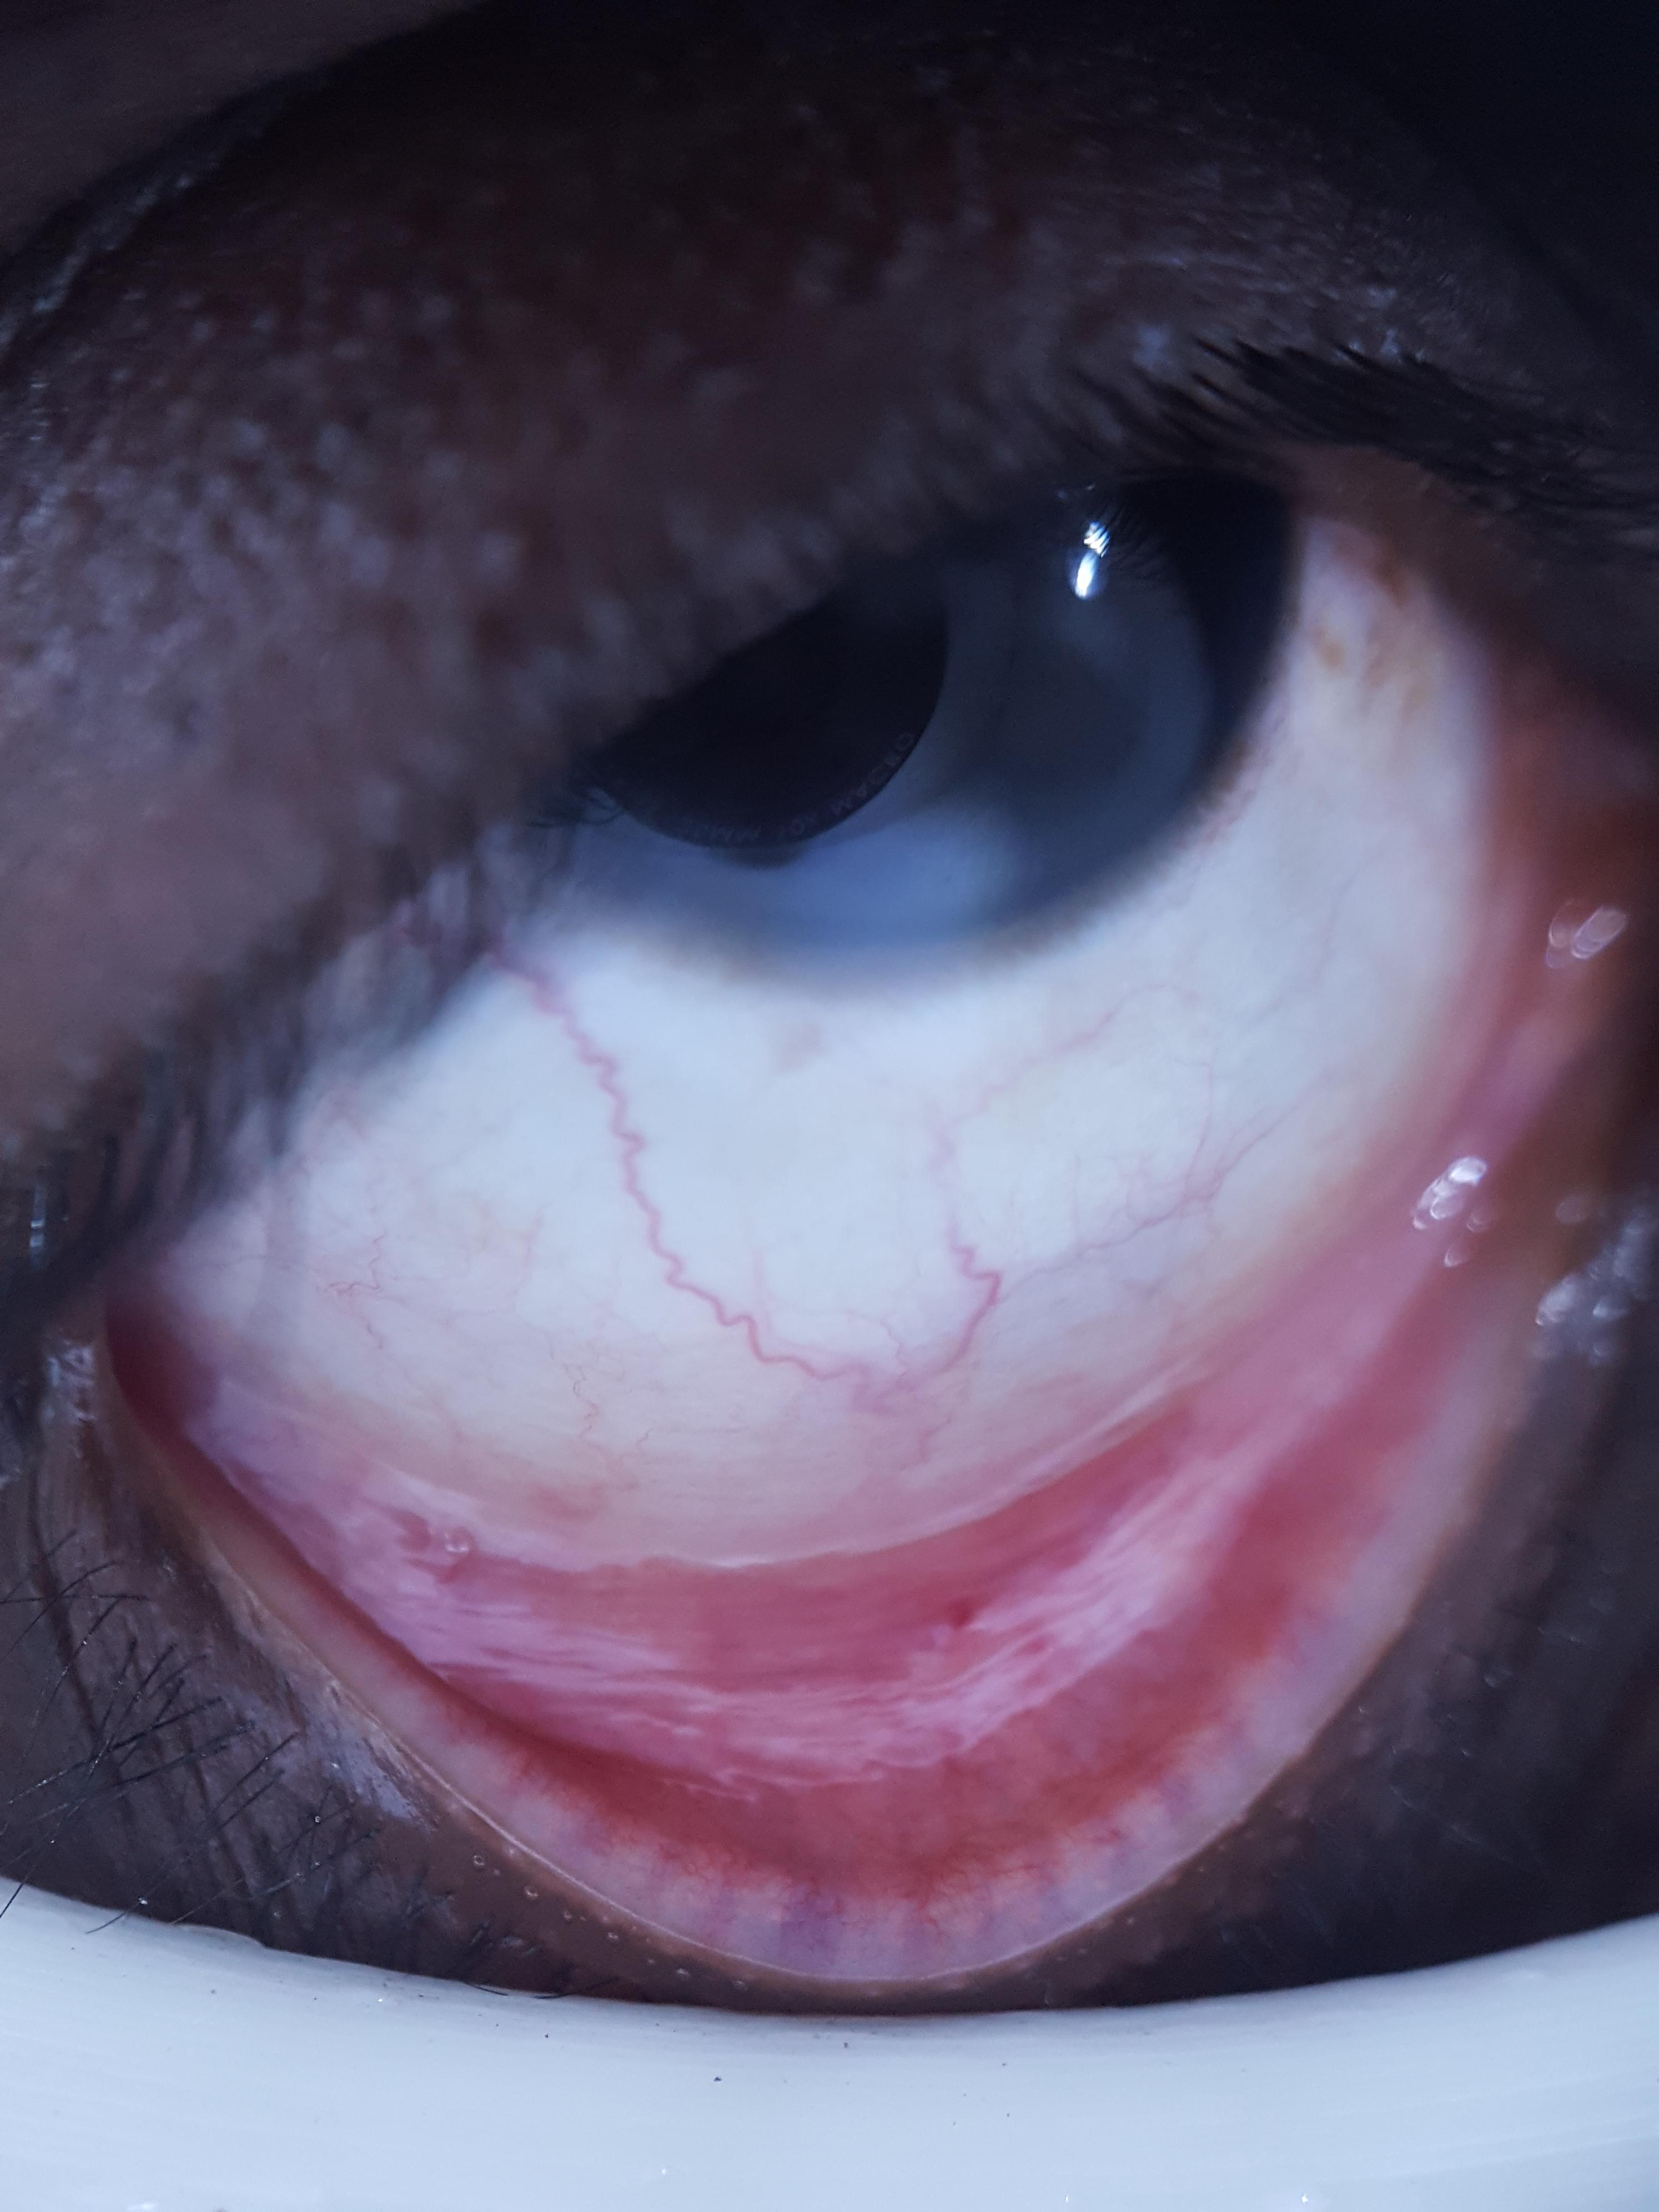forniceal: (179, 1191, 1464, 1796)
forniceal_palpebral: (169, 1184, 1478, 1909)
palpebral: (185, 1270, 1476, 1900)
